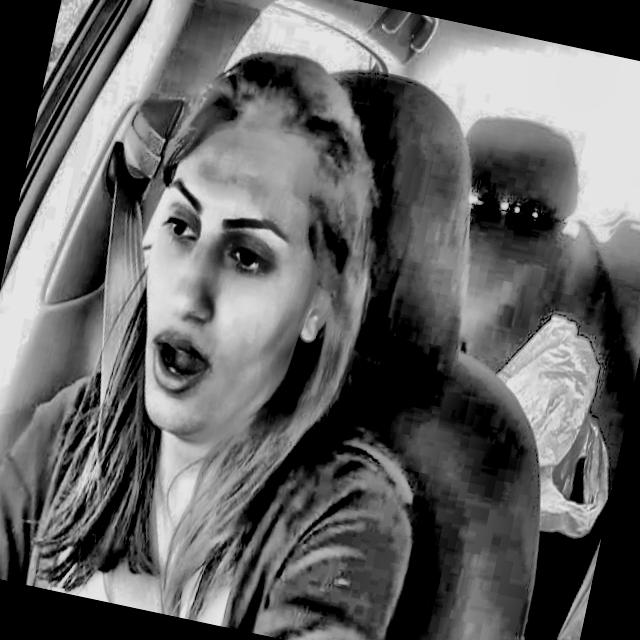open_eyes: (214, 226, 289, 291), (147, 201, 204, 256)
open_mouth: (142, 322, 228, 413)
